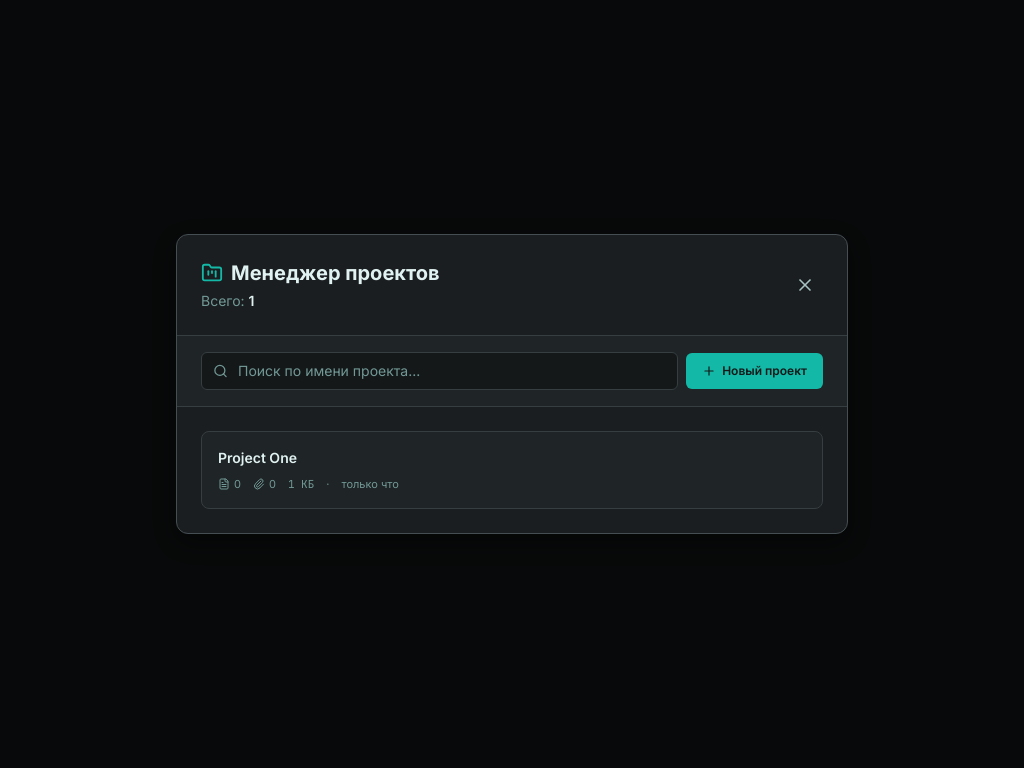
Test case: ProjectManagerModal › Переключение проекта › показывает ошибку, если переключение не удалось
Click the button with aria-label "Переключиться на проект Project One".
click(257, 457)  # box 201,431 -> 823,509
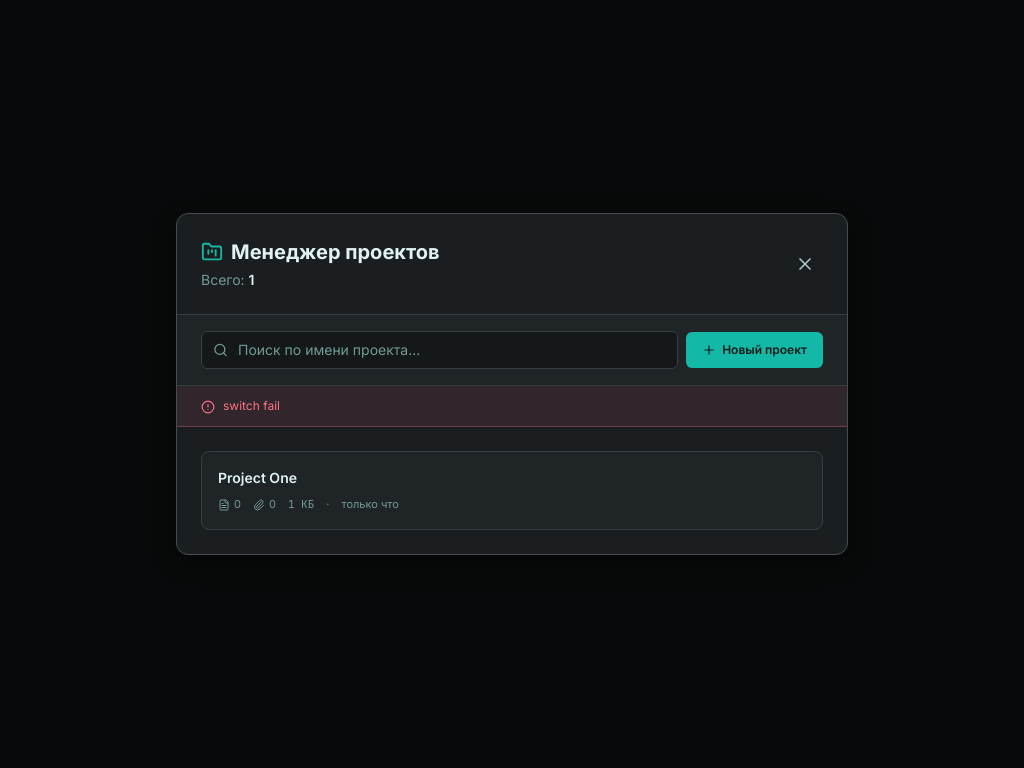
Result: the text "switch fail" is shown at 223,398 -> 280,414
